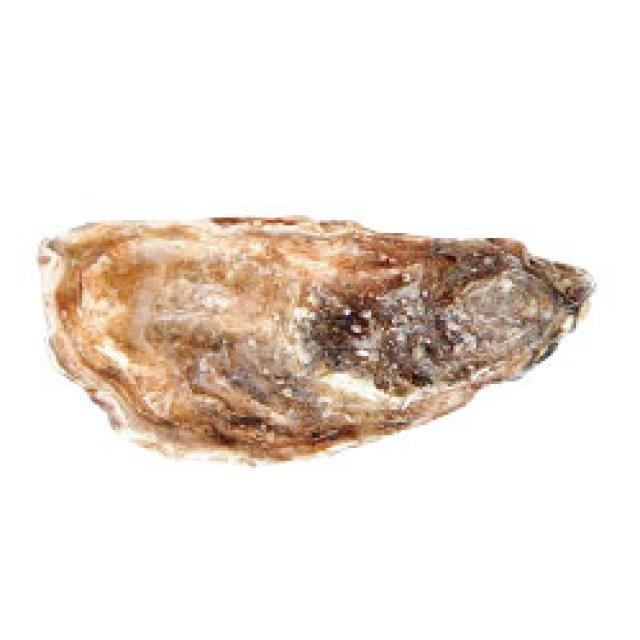Oyster- Indeterminate: (28, 206, 606, 478)
